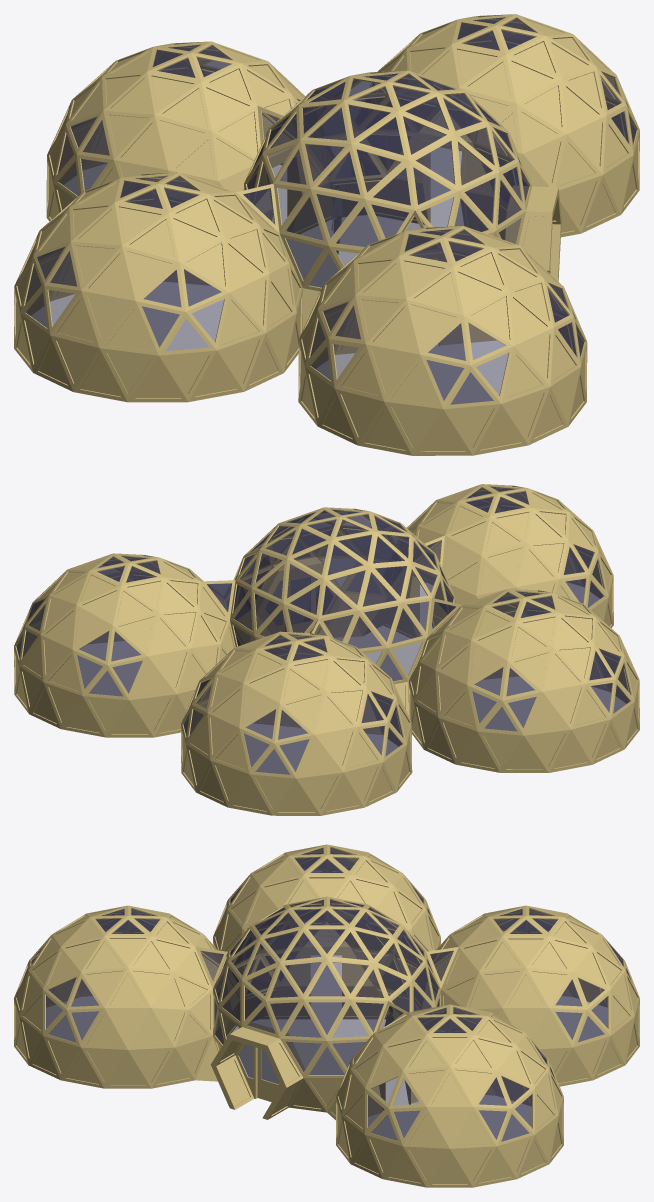
Rendered from DomeArray.dae.
3 renders of one model, top to bottom at view 1: azimuth 30°, elevation 25°; view 2: azimuth 150°, elevation 25°; view 3: azimuth 270°, elevation 25°, orthographic. The views are drawn at different scales.
Visible parts, largest first — view 1: Small_dome4, Small_dome1, Central_dome, Small_dome3, Small_dome2; view 2: Small_dome4, Small_dome2, Small_dome3, Central_dome, Small_dome1; view 3: Central_dome, Small_dome3, Small_dome1, Small_dome2, Small_dome4.
Part boxes in pixels (left/top/right/bottom): Small_dome4: left=14, top=172, right=302, bottom=402; Small_dome1: left=298, top=210, right=587, bottom=455; Central_dome: left=243, top=70, right=561, bottom=330; Small_dome3: left=370, top=14, right=639, bottom=237; Small_dome2: left=46, top=41, right=332, bottom=233; Small_dome4: left=408, top=589, right=639, bottom=772; Small_dome2: left=181, top=619, right=412, bottom=815; Small_dome3: left=14, top=553, right=235, bottom=737; Central_dome: left=225, top=507, right=455, bottom=715; Small_dome1: left=383, top=484, right=613, bottom=638; Central_dome: left=195, top=896, right=440, bottom=1119; Small_dome3: left=336, top=1001, right=563, bottom=1187; Small_dome1: left=14, top=905, right=239, bottom=1088; Small_dome2: left=414, top=905, right=639, bottom=1086; Small_dome4: left=213, top=844, right=440, bottom=1019.
Size of the model in its own units: 58.01 by 59.81 by 17.02.
